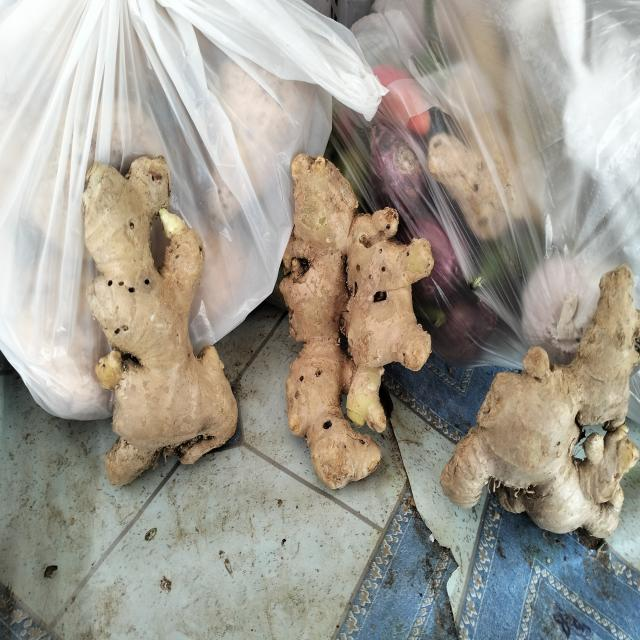ginger: (56, 142, 236, 472), (268, 138, 432, 490), (449, 245, 635, 544)
